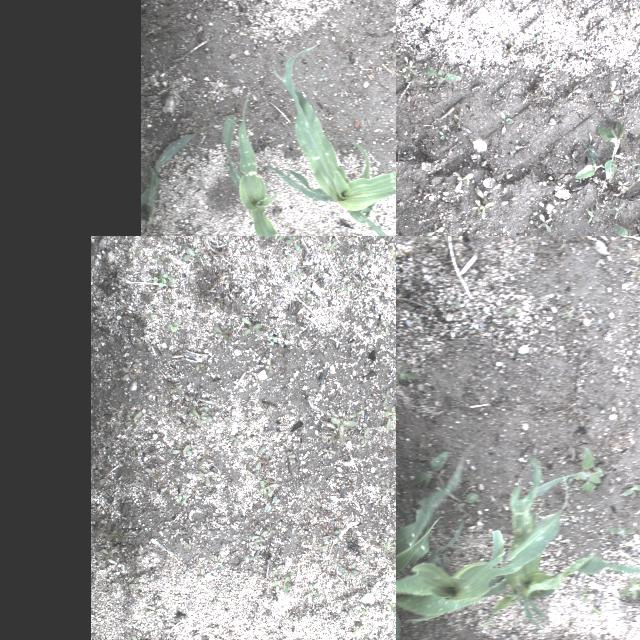crop: (396, 444, 567, 623), (481, 456, 640, 631), (263, 45, 396, 236), (222, 93, 316, 236), (142, 125, 212, 223)
weed: (596, 117, 630, 183), (405, 450, 447, 488), (420, 60, 462, 96), (574, 136, 602, 182), (467, 183, 495, 224), (576, 448, 602, 492), (606, 74, 630, 104), (188, 400, 212, 428), (272, 564, 294, 594), (398, 52, 418, 84), (452, 169, 476, 195), (538, 62, 562, 88), (498, 110, 520, 136), (560, 80, 586, 102), (245, 448, 271, 470), (436, 123, 456, 151), (536, 19, 552, 53), (376, 532, 396, 558), (338, 558, 360, 580), (534, 210, 554, 234), (239, 317, 263, 337), (324, 421, 344, 445), (419, 218, 445, 236), (258, 478, 280, 499), (414, 186, 442, 202), (623, 1, 640, 27), (584, 207, 606, 227), (608, 200, 630, 220), (501, 191, 521, 213), (504, 38, 526, 58), (401, 89, 421, 111), (183, 246, 204, 266), (564, 145, 582, 167), (618, 580, 640, 598), (303, 582, 321, 602), (106, 526, 126, 544), (458, 492, 478, 510), (448, 112, 464, 134), (330, 417, 358, 429), (610, 225, 640, 236), (212, 326, 232, 342), (198, 468, 214, 487), (124, 412, 140, 431), (384, 405, 396, 430), (613, 177, 631, 193), (262, 497, 280, 513), (610, 527, 634, 539), (98, 469, 114, 485), (101, 548, 117, 564), (285, 236, 300, 253), (599, 194, 613, 212), (122, 363, 136, 381), (196, 449, 210, 467), (248, 534, 262, 552), (172, 444, 192, 456), (250, 530, 270, 542), (570, 48, 586, 62), (381, 479, 395, 495), (144, 468, 164, 479), (324, 237, 336, 255), (264, 356, 276, 374), (433, 0, 454, 10), (144, 606, 164, 616), (156, 256, 170, 270), (228, 434, 242, 448), (361, 548, 373, 564), (361, 574, 377, 586), (212, 554, 224, 570), (96, 524, 112, 536), (322, 528, 341, 538), (632, 208, 640, 231), (162, 271, 176, 283), (166, 382, 180, 394), (354, 624, 368, 636), (348, 409, 366, 418), (282, 324, 292, 340), (216, 292, 224, 312), (166, 322, 182, 332), (382, 390, 392, 406), (360, 428, 370, 444), (312, 542, 328, 552), (396, 42, 402, 68), (160, 484, 173, 496), (388, 601, 396, 620), (154, 276, 166, 288), (128, 578, 140, 590), (389, 248, 396, 268), (125, 246, 139, 256), (147, 269, 161, 279), (197, 302, 211, 312), (282, 452, 296, 462), (249, 554, 263, 564), (202, 516, 212, 530), (174, 420, 188, 430), (626, 484, 640, 494), (196, 566, 204, 582), (312, 493, 321, 507), (294, 267, 304, 279), (155, 236, 170, 244), (119, 266, 131, 276), (378, 447, 388, 459), (262, 404, 272, 416), (223, 411, 235, 421), (342, 607, 354, 617), (211, 592, 221, 604), (365, 242, 373, 256), (382, 321, 390, 335), (322, 447, 336, 455), (245, 467, 255, 478), (186, 422, 197, 432), (176, 494, 187, 504), (634, 166, 640, 184), (162, 296, 175, 304), (142, 293, 152, 303), (148, 308, 158, 318), (267, 334, 277, 344), (217, 340, 227, 350), (130, 633, 144, 640), (302, 292, 310, 304), (280, 254, 292, 262), (267, 524, 275, 536), (362, 606, 370, 618), (125, 530, 133, 542), (389, 551, 396, 564), (194, 362, 203, 372), (147, 341, 155, 352), (244, 417, 252, 428), (130, 449, 142, 456), (93, 524, 99, 538), (341, 284, 351, 292), (222, 237, 232, 245), (242, 408, 252, 416), (338, 524, 348, 532), (208, 447, 218, 455), (349, 531, 357, 541), (123, 578, 131, 588), (170, 400, 180, 408), (344, 236, 356, 242), (188, 538, 195, 548), (317, 76, 328, 82), (378, 498, 386, 506), (334, 514, 342, 522), (334, 558, 342, 566), (316, 271, 324, 279), (168, 407, 176, 415), (348, 482, 358, 488), (168, 252, 172, 266), (163, 390, 170, 398), (389, 355, 396, 362), (354, 250, 358, 262), (340, 257, 344, 269), (313, 298, 319, 306), (275, 236, 283, 242), (263, 236, 275, 240), (349, 430, 353, 442), (264, 610, 272, 616), (298, 526, 306, 532), (280, 516, 288, 522), (250, 523, 258, 529), (190, 488, 196, 496), (274, 637, 286, 640), (338, 408, 346, 412), (181, 356, 185, 362), (215, 638, 225, 640), (292, 528, 294, 532)
